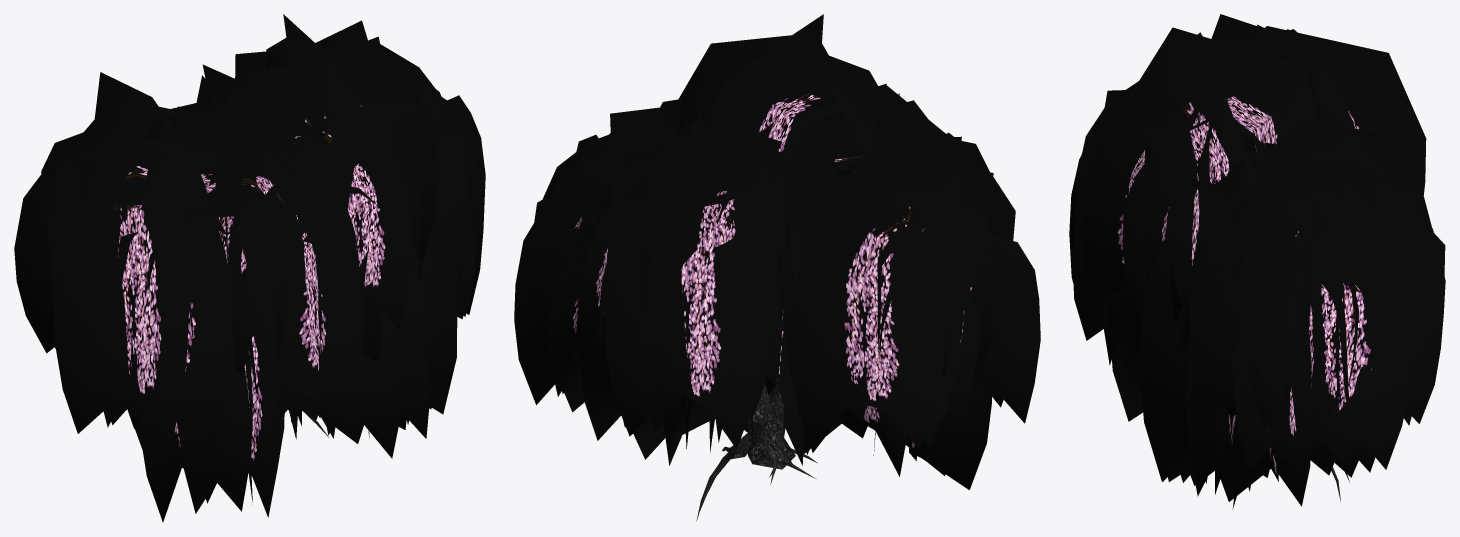
The model's file is sakura.fbx.
3 views of the same model, side by side, from view 1: azimuth 30°, elevation 25°; view 2: azimuth 150°, elevation 25°; view 3: azimuth 270°, elevation 25° (orthographic).
Parts seen in each view (by area): view 1: sakura_basecolor_1; view 2: sakura_basecolor_1, bark03_0; view 3: sakura_basecolor_1.
Part boxes in pixels (bbox=[...]): sakura_basecolor_1: bbox=[14, 14, 485, 522]; sakura_basecolor_1: bbox=[514, 14, 1040, 489]; bark03_0: bbox=[696, 370, 817, 521]; sakura_basecolor_1: bbox=[1069, 14, 1445, 509].
Size of the model in its own units: 1296 by 1237 by 926.
2 materials, 2 textured.
